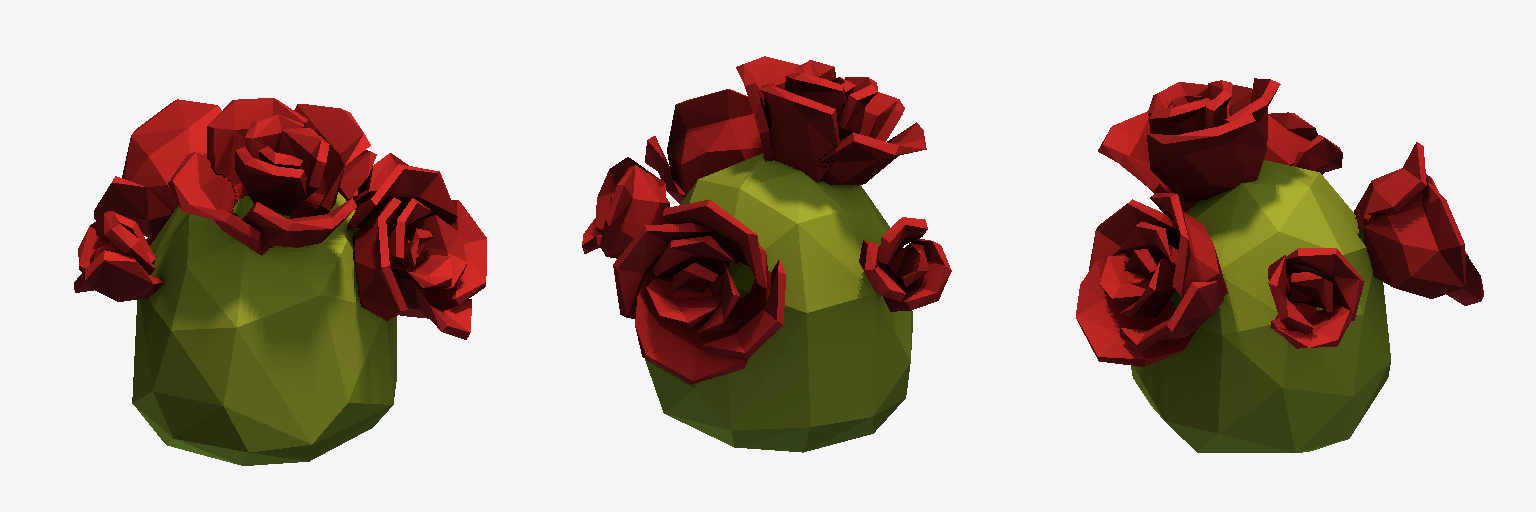
The picture shows the model from 3 angles: view 1: azimuth 30°, elevation 25°; view 2: azimuth 150°, elevation 25°; view 3: azimuth 270°, elevation 25°; orthographic projection.
Visible parts, largest first — view 1: Rose_Bush; view 2: Rose_Bush; view 3: Rose_Bush.
Boxes of the visible parts, box(x1,y1,x2,y2) form: Rose_Bush: box(74, 98, 486, 465); Rose_Bush: box(582, 56, 951, 452); Rose_Bush: box(1076, 78, 1483, 452).
Size of the model in its own units: 1.81 by 1.6 by 1.81.
1 materials, 1 textured.